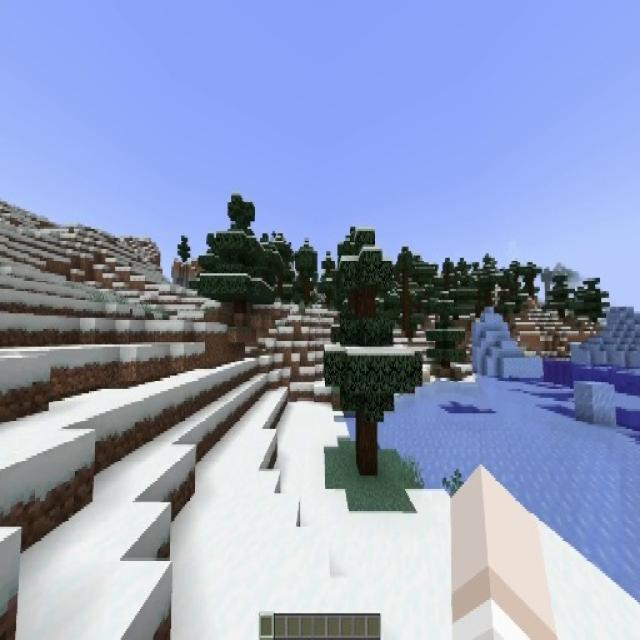spruce: (323, 228, 422, 476), (198, 195, 277, 314), (424, 292, 464, 376), (176, 234, 191, 263)
spruce_log: (356, 418, 378, 476), (356, 290, 376, 318), (403, 273, 408, 331)
